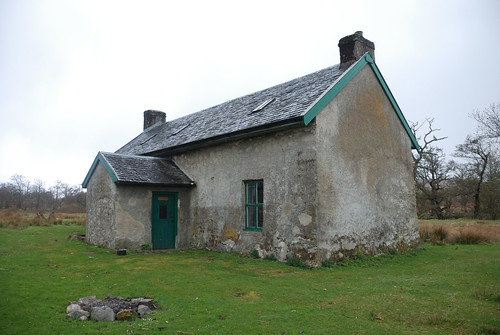building: (95, 92, 406, 263)
door: (151, 190, 179, 252)
grass: (6, 233, 500, 335)
rocks: (63, 283, 159, 329)
sky: (1, 1, 500, 149)
tree: (416, 124, 456, 236), (462, 108, 500, 224)
vegetation: (1, 178, 85, 229)
window: (232, 175, 270, 234)
